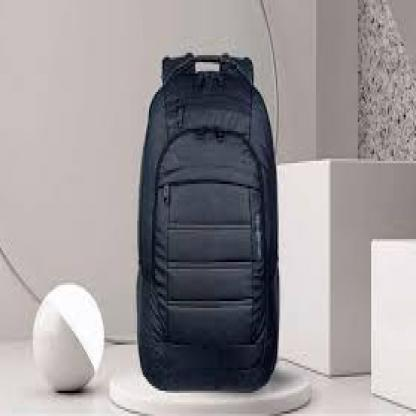morral: (134, 41, 286, 404)
